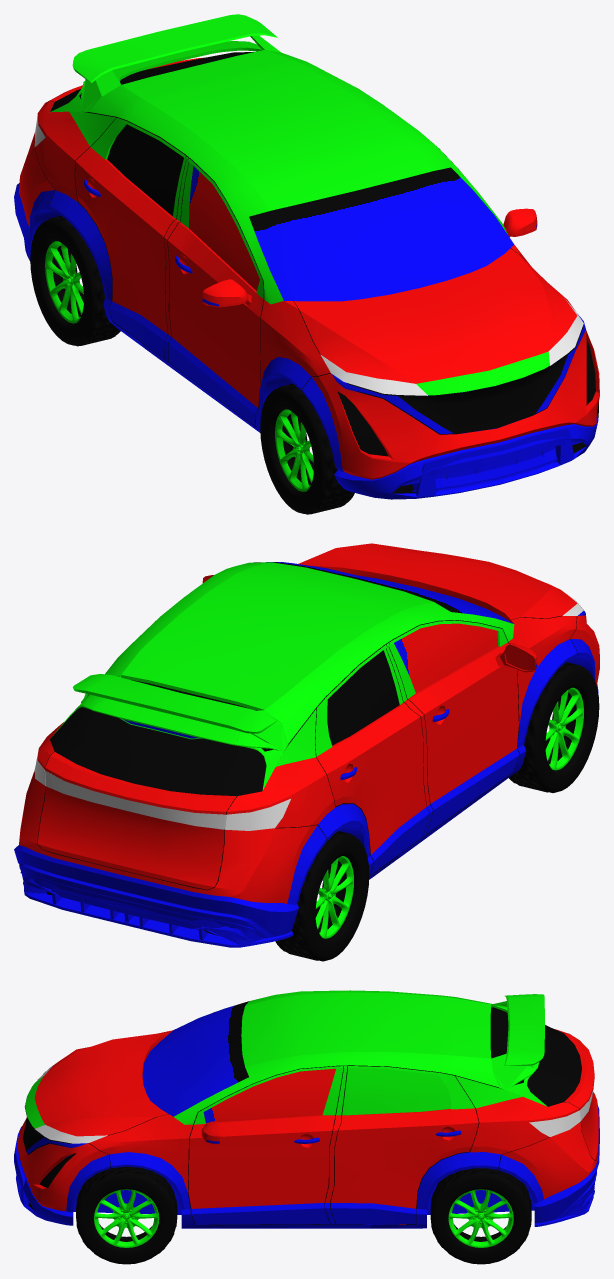
File: crossover-ev-lod0.glb
3 views of the same model, one above another, from view 1: azimuth 30°, elevation 25°; view 2: azimuth 150°, elevation 25°; view 3: azimuth 270°, elevation 25° (orthographic). The views are drawn at different scales.
Visible parts, largest first — view 1: body, glass_a, door_r_rear, door_r_front, Wheel.003, Wheel.002, spoiler_c, bumper_front_a, bumper_front_c, glass_door_r, spoiler_b, bumper_front_b (+2 smaller); view 2: body, door_r_rear, door_r_front, glass_x, bumper_rear_a, Wheel.003, Wheel.002, spoiler_c, glass_door_r, bumper_rear_b, spoiler_b, bumper_rear_c (+2 smaller); view 3: body, door_l_rear, door_l_front, glass_a, Wheel, Wheel.001, glass_door_l, glass_x, spoiler_c, bumper_rear_a, skirt_a, bumper_rear_b (+6 smaller).
Boxes of the visible parts, x1,y1,x2,y2 form: body: (19,50,599,479); glass_a: (249,167,514,301); door_r_rear: (75,117,186,358); door_r_front: (167,158,269,426); Wheel.003: (260,383,354,514); Wheel.002: (30,216,120,346); spoiler_c: (72,14,280,111); bumper_front_a: (334,414,598,499); bumper_front_c: (337,425,596,499); glass_door_r: (189,166,259,290); spoiler_b: (50,41,264,112); bumper_front_b: (334,446,557,496); body: (19,543,599,904); door_r_rear: (315,644,429,874); door_r_front: (388,620,537,833); glass_x: (50,680,273,796); bumper_rear_a: (14,846,298,947); Wheel.003: (509,662,599,792); Wheel.002: (275,831,369,961); spoiler_c: (73,674,288,750); glass_door_r: (394,623,498,692); bumper_rear_b: (14,845,298,947); spoiler_b: (51,675,283,790); bumper_rear_c: (19,863,298,939); body: (17,990,598,1224); door_l_rear: (330,1065,478,1224); door_l_front: (188,1065,343,1224); glass_a: (142,1001,248,1116); Wheel: (76,1166,177,1264); Wheel.001: (430,1168,531,1264); glass_door_l: (203,1068,335,1122); glass_x: (490,1007,581,1106); spoiler_c: (491,994,544,1089); bumper_rear_a: (534,1171,596,1226); skirt_a: (181,1209,427,1228); bumper_rear_b: (534,1106,599,1226).
Size of the model in its own units: 2.28 by 1.63 by 4.5.
Materials: 8 (5 with a texture image).
